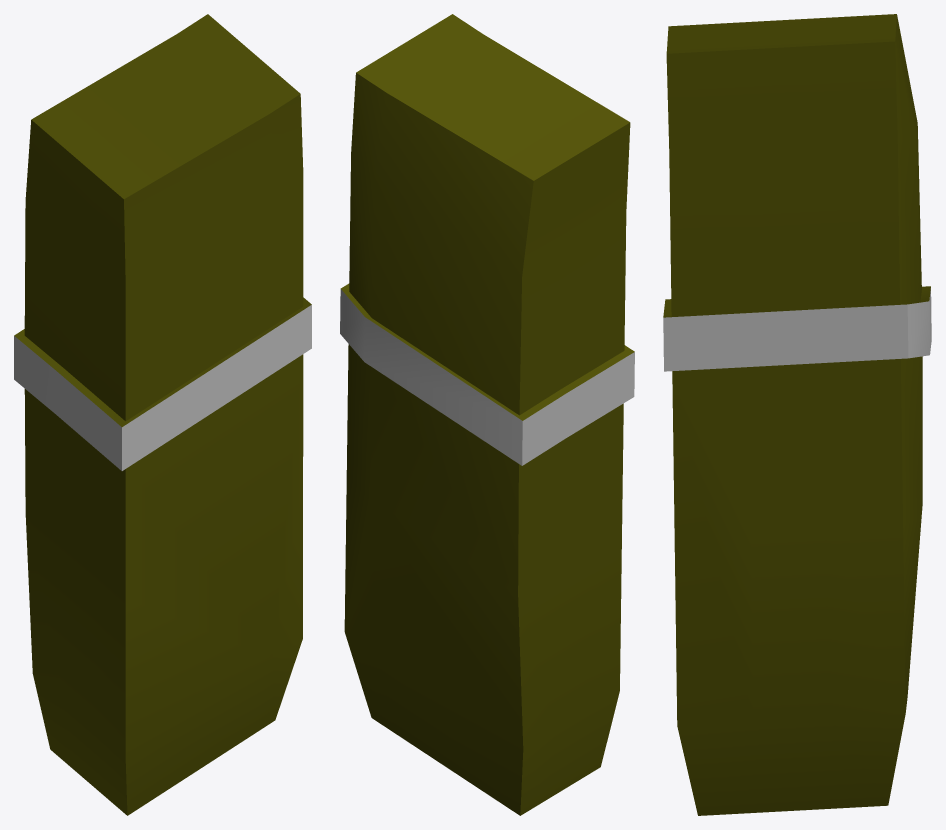
Rendered from leftArm.obj.
The picture shows the model from 3 angles, left to right: view 1: azimuth 30°, elevation 25°; view 2: azimuth 150°, elevation 25°; view 3: azimuth 270°, elevation 25°; orthographic projection. The views are drawn at different scales.
Parts seen in each view (by area): view 1: 3_Upper_Arm.L_Cube.034; view 2: 3_Upper_Arm.L_Cube.034; view 3: 3_Upper_Arm.L_Cube.034.
Part boxes in pixels (bbox=[...]): 3_Upper_Arm.L_Cube.034: bbox=[14, 14, 311, 815]; 3_Upper_Arm.L_Cube.034: bbox=[340, 14, 634, 815]; 3_Upper_Arm.L_Cube.034: bbox=[663, 14, 931, 815].
Size of the model in its own units: 0.7748 by 2.73 by 0.7771.
